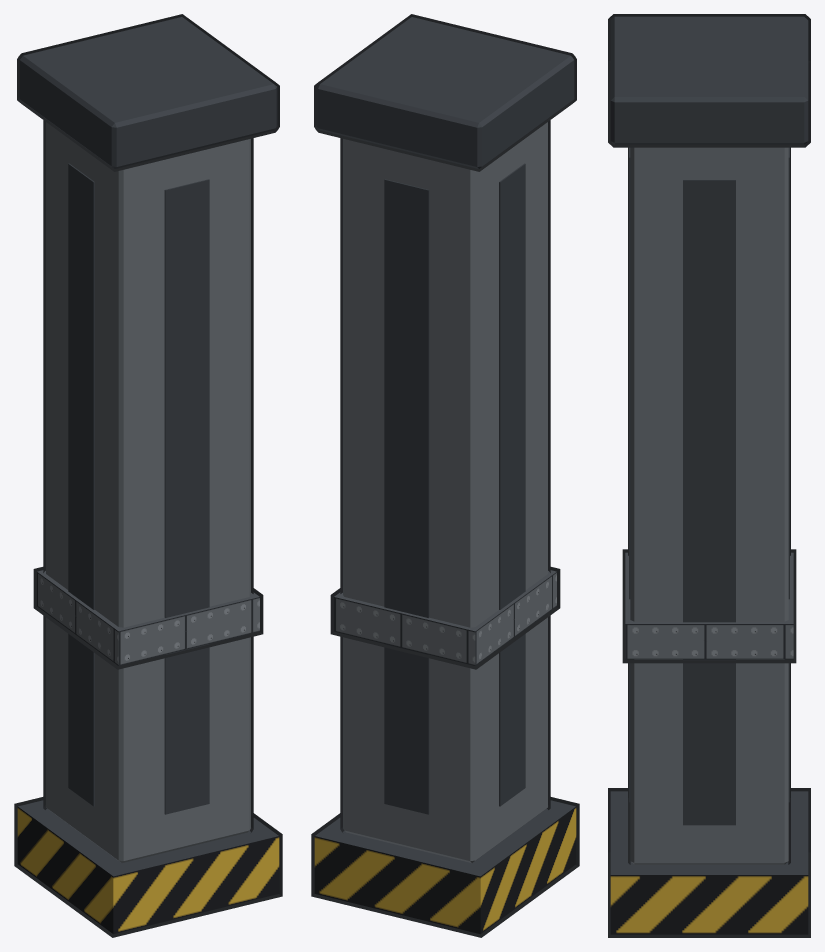
Rendered from SM_Pillar.glb.
3 views of the same model, side by side, from view 1: azimuth 30°, elevation 25°; view 2: azimuth 150°, elevation 25°; view 3: azimuth 270°, elevation 25° (orthographic). The views are drawn at different scales.
Visible parts, largest first — view 1: SM_Pillar, SM_Pillar_Outline; view 2: SM_Pillar, SM_Pillar_Outline; view 3: SM_Pillar, SM_Pillar_Outline.
Boxes of the visible parts, x1,y1,x2,y2 form: SM_Pillar: (17, 17, 279, 934); SM_Pillar_Outline: (14, 14, 282, 937); SM_Pillar: (314, 17, 576, 934); SM_Pillar_Outline: (311, 14, 579, 937); SM_Pillar: (610, 16, 808, 934); SM_Pillar_Outline: (608, 14, 810, 937).
Size of the model in its own units: 1.54 by 7.04 by 1.54.
Materials: 2 (1 with a texture image).
